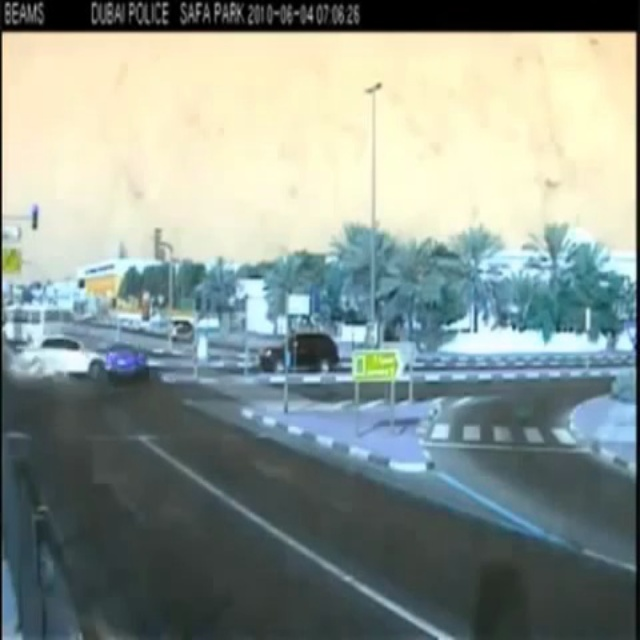acc: (8, 325, 168, 389)
